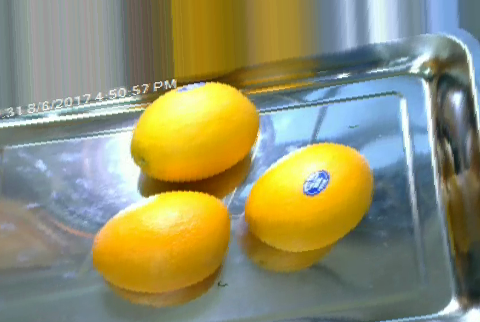Orange: (93, 189, 231, 293), (244, 143, 374, 251), (131, 82, 260, 183)
